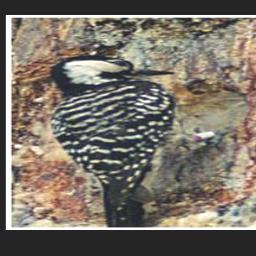Woodpecker: (38, 49, 241, 229)
